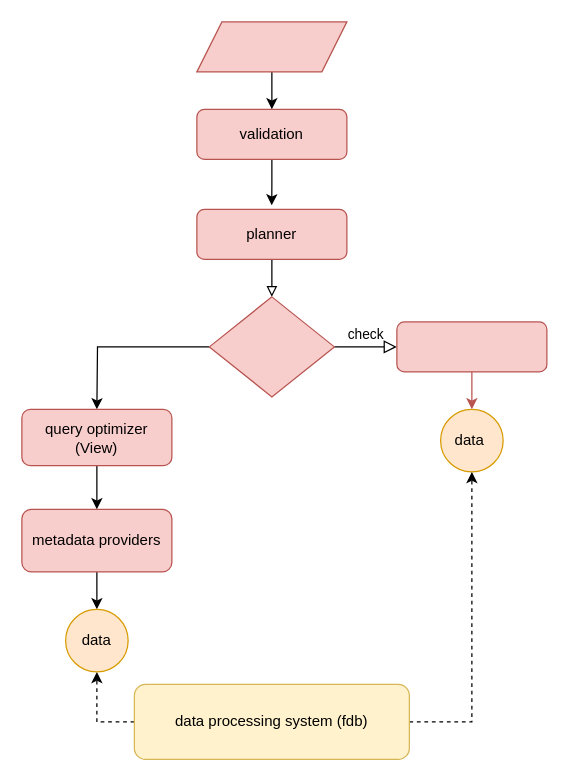
This 569x781 diagram has some shape labels left out. The centre of each missing label's shape, as x and y in pixels:
index optimizer: point (471, 346)
new sql: point (271, 46)
Sql Index filter: point (271, 346)
